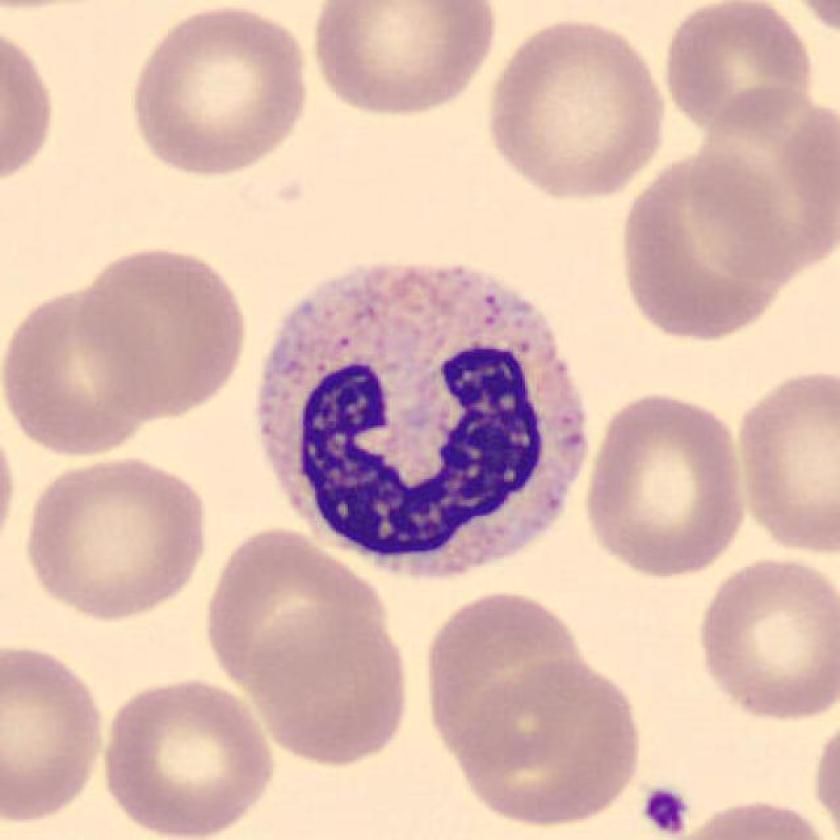neutrophil: (260, 263, 588, 580)
